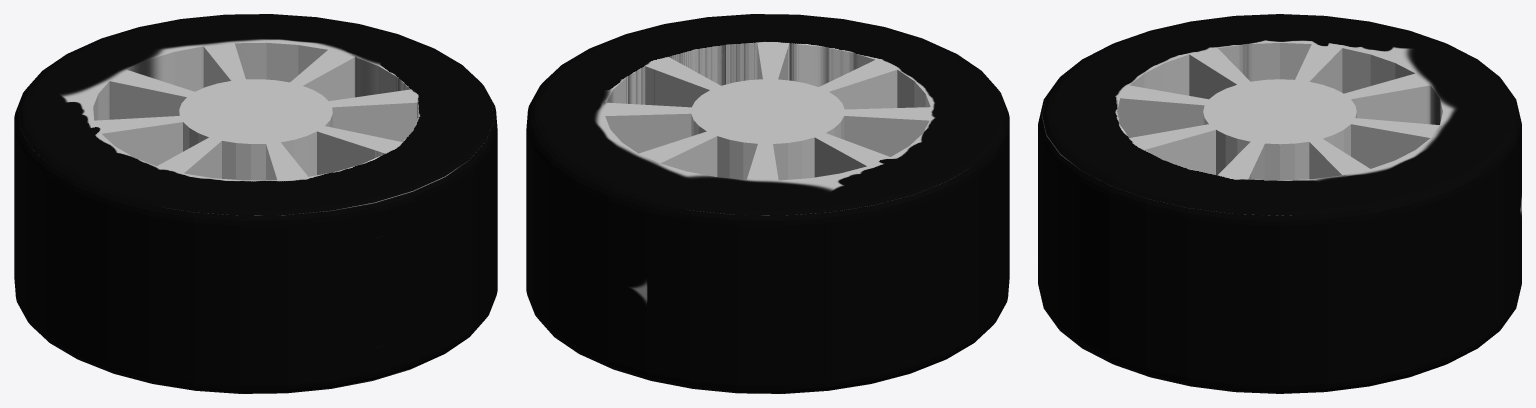
The model's file is car_wheel.glb.
3 views of the same model, side by side, from view 1: azimuth 30°, elevation 25°; view 2: azimuth 150°, elevation 25°; view 3: azimuth 270°, elevation 25° (orthographic).
Visible parts, largest first — view 1: Cylinder; view 2: Cylinder; view 3: Cylinder.
Part boxes in pixels (<box>): Cylinder: <box>14,14,497,393</box>; Cylinder: <box>526,14,1009,393</box>; Cylinder: <box>1038,14,1521,393</box>.
Size of the model in its own units: 2 by 0.8416 by 2.
1 material, 1 textured.
